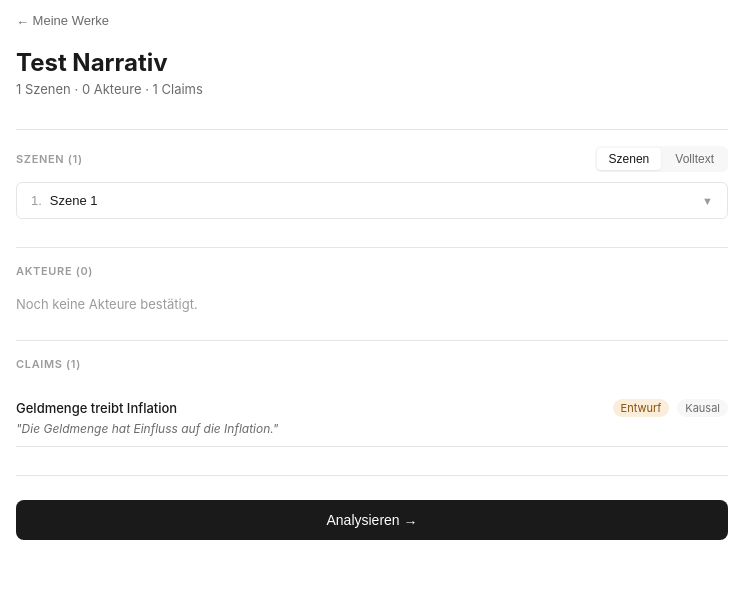
NarrativeDetail › claim text appears as highlighted mark in Volltext mode
The width and height of the screenshot is (745, 600).
Expected: the heading "Test Narrativ" is shown, [16, 48, 168, 77]
Click the button "Volltext".
click(695, 159)  # box [663, 148, 726, 170]
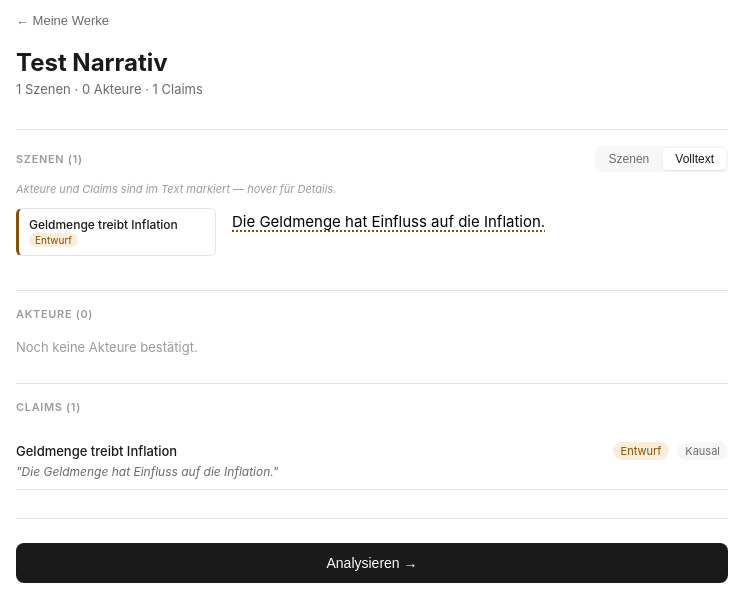
Result: the text "Die Geldmenge hat Einfluss auf die Inflation." is shown at [232, 212, 545, 231]
